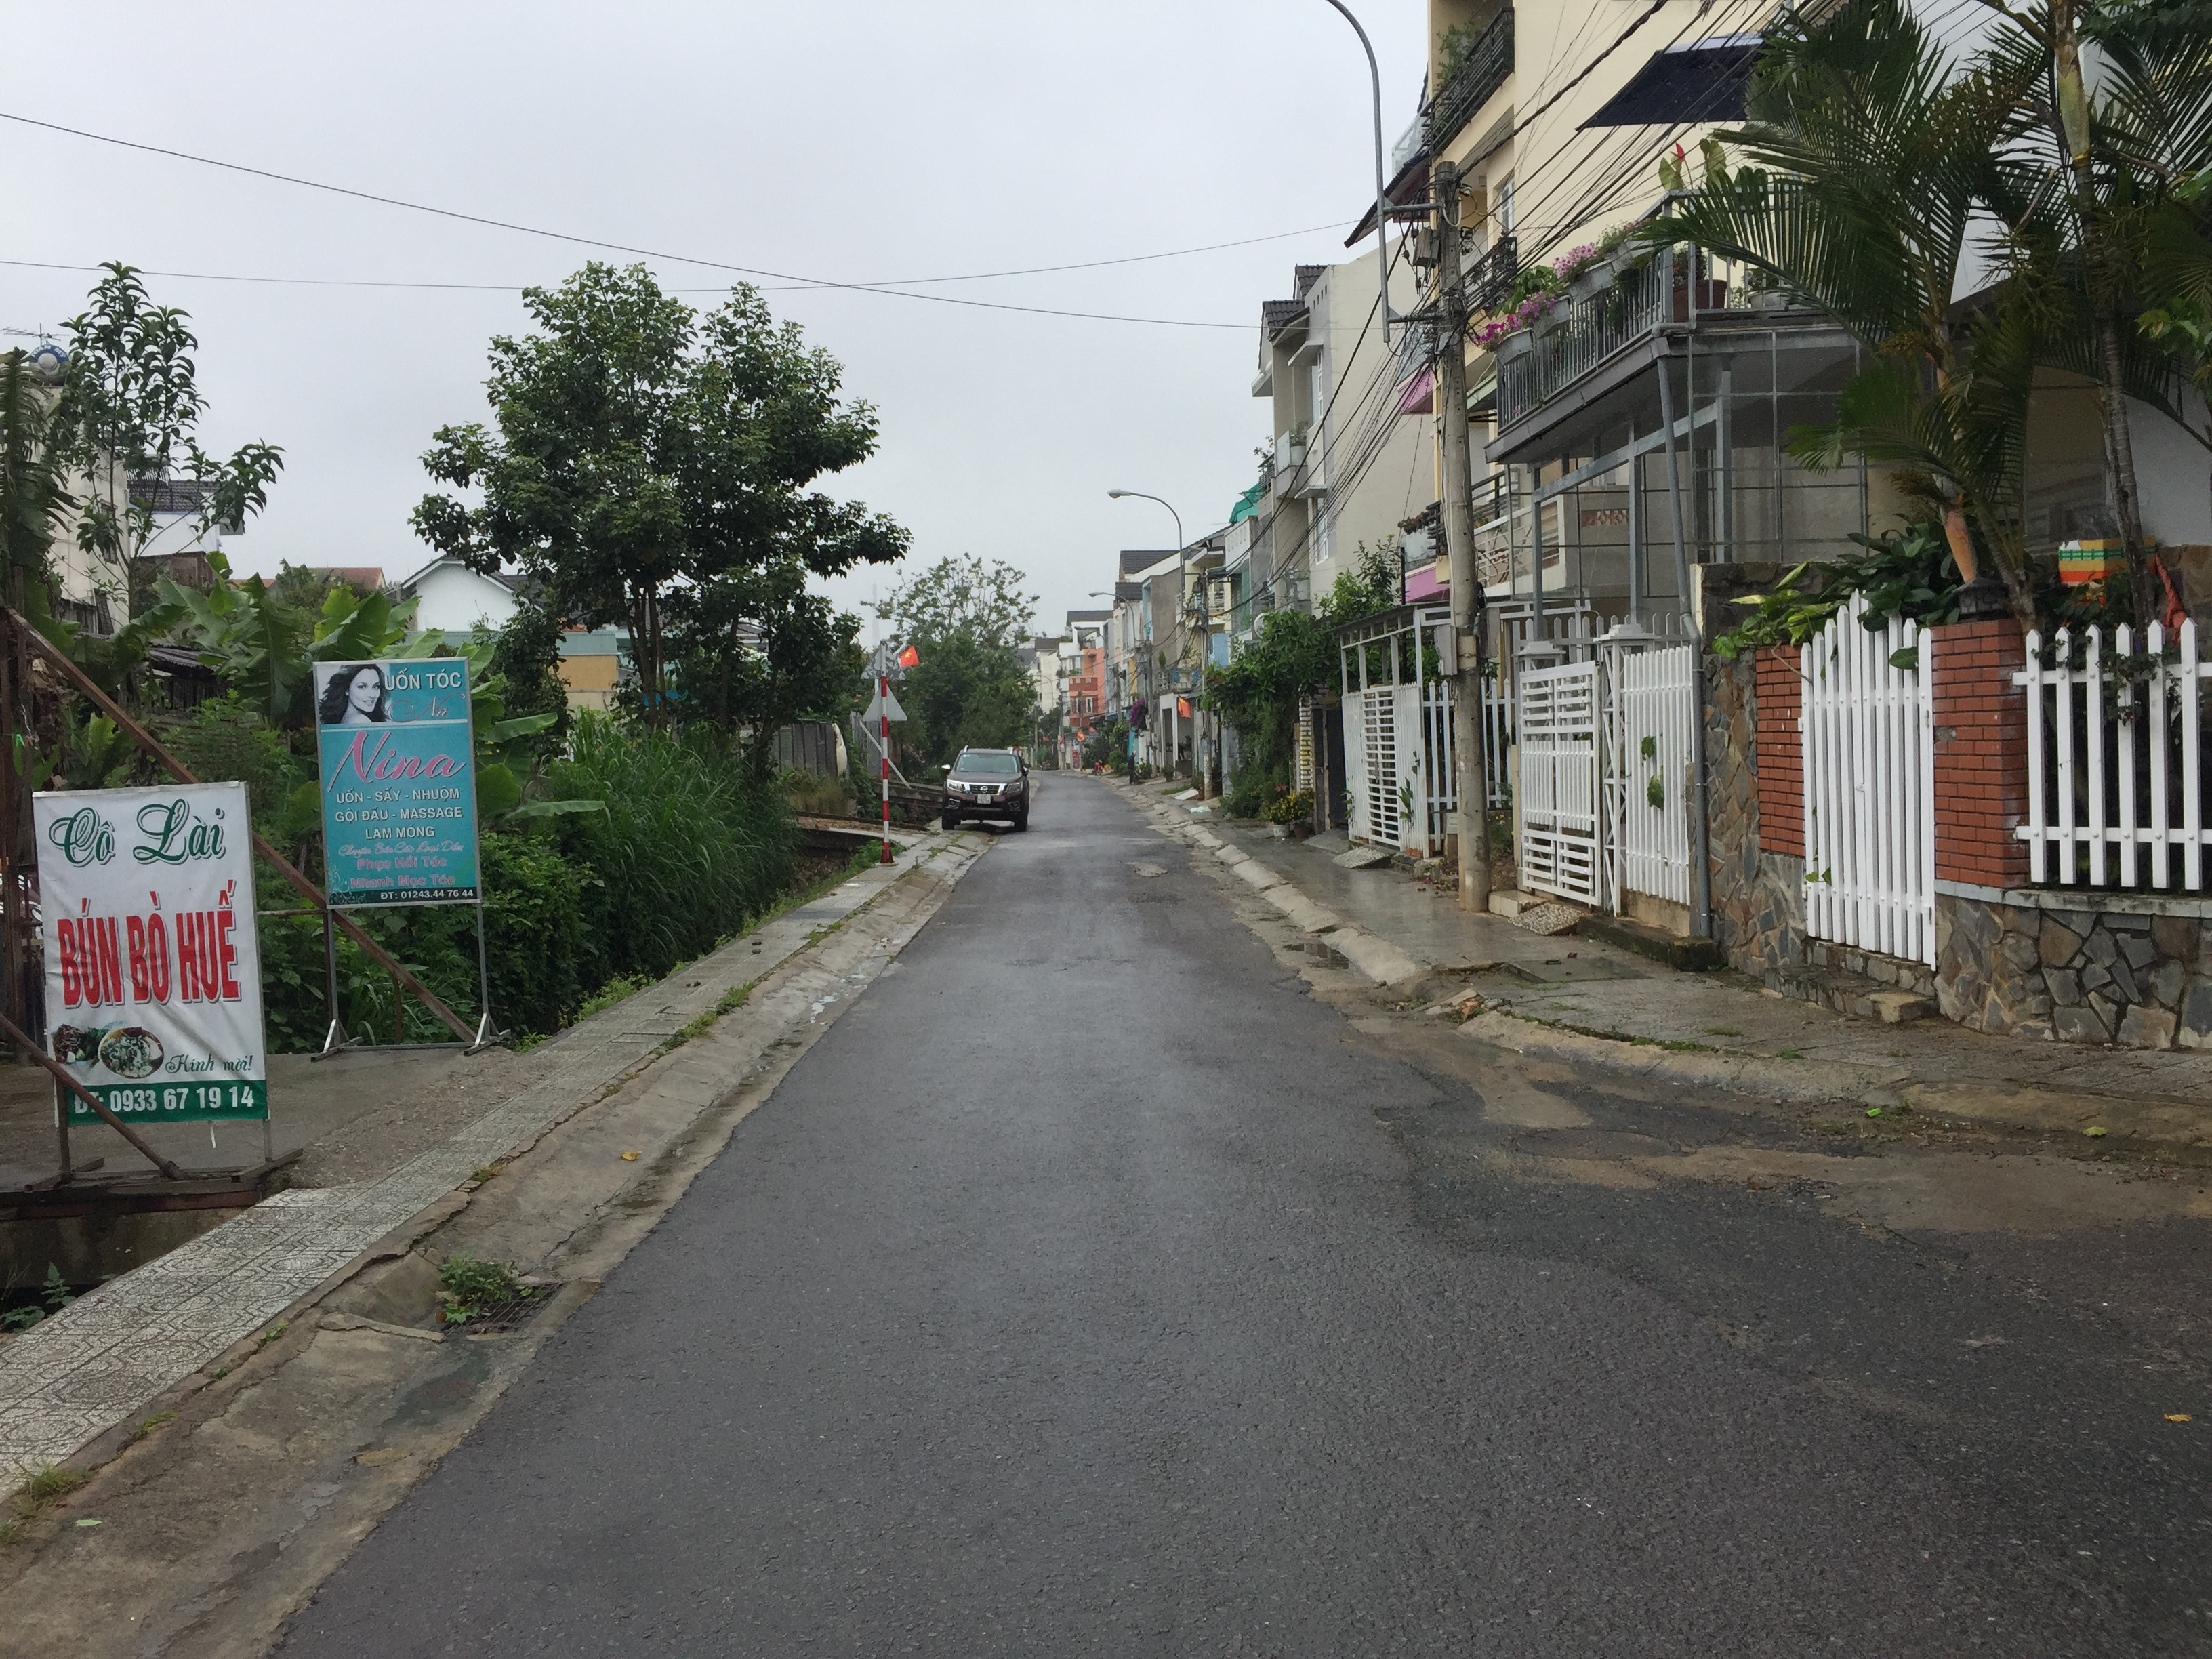hole: (1750, 1173, 1848, 1204), (1123, 859, 1169, 877), (1132, 892, 1183, 903)
